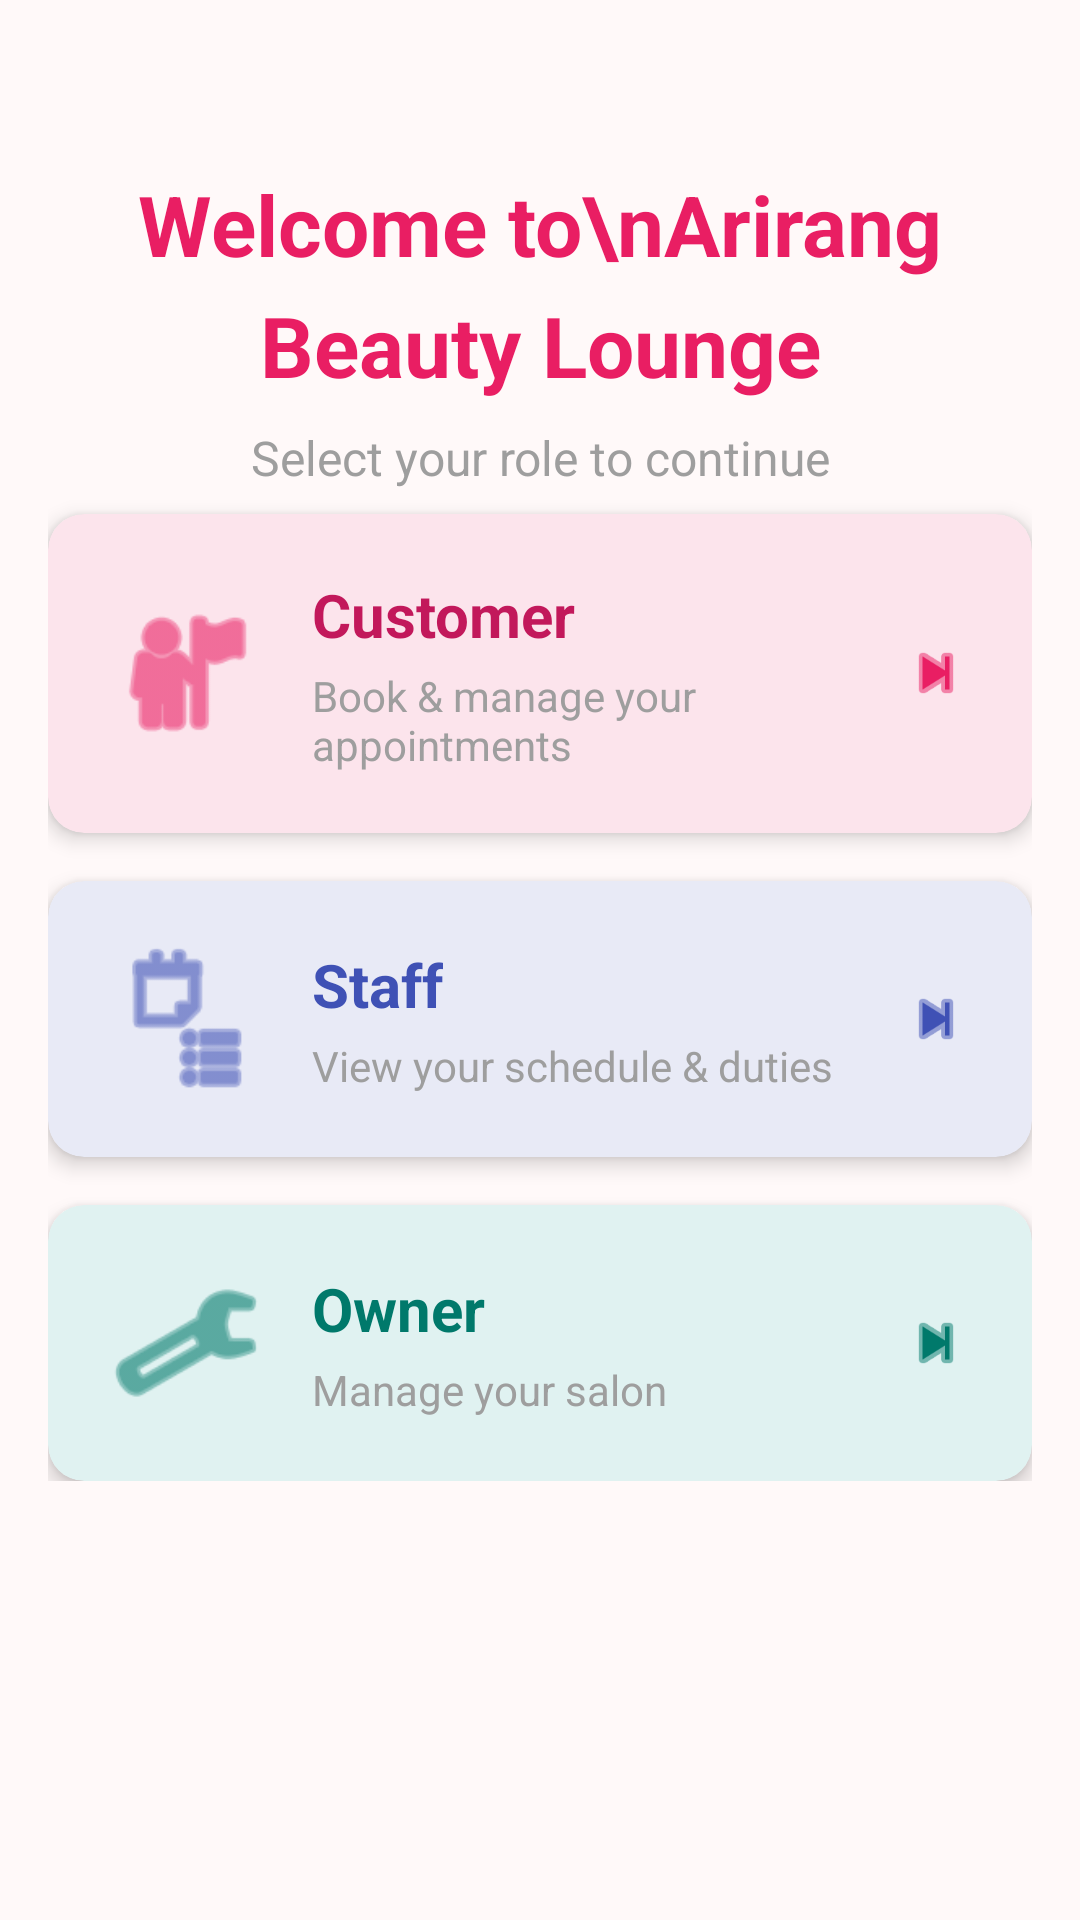

Icon click points for this 1080px×1920px phone screenshot, format (x=x, y=y):
Navigate: (x=936, y=673), (x=936, y=1019), (x=936, y=1343)
